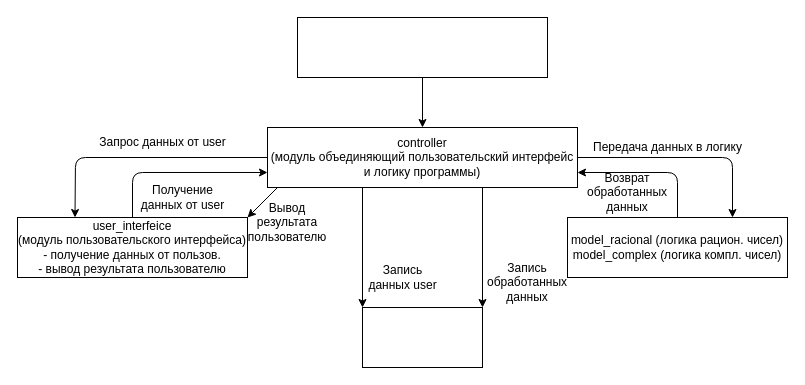
This 805x385 diagram has some shape labels left out. The shapes that lost their labels are listed below. From the top down, each one's centre as x and y in pixels, then its label:
point (422, 47): main (главный модуль - точка входа программы)
point (422, 337): log_genrate (модуль логов)
